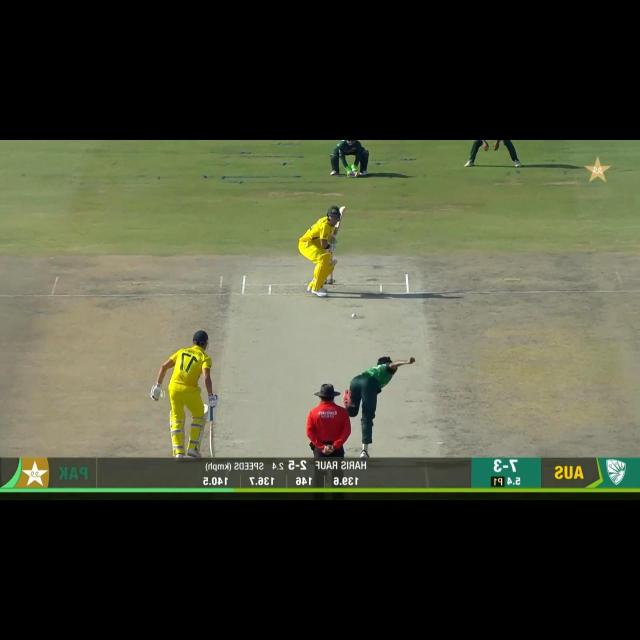bat: (204, 422, 225, 456), (330, 204, 348, 238)
toe: (207, 449, 218, 458), (338, 205, 347, 213)
